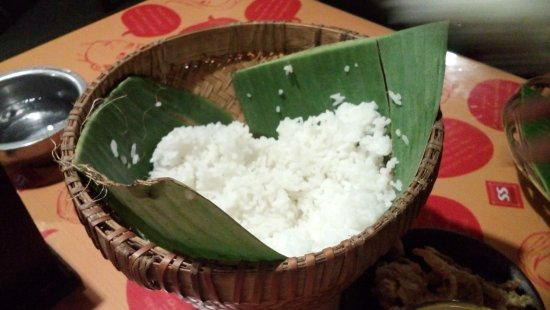Nasi Putih: (123, 84, 396, 266)
